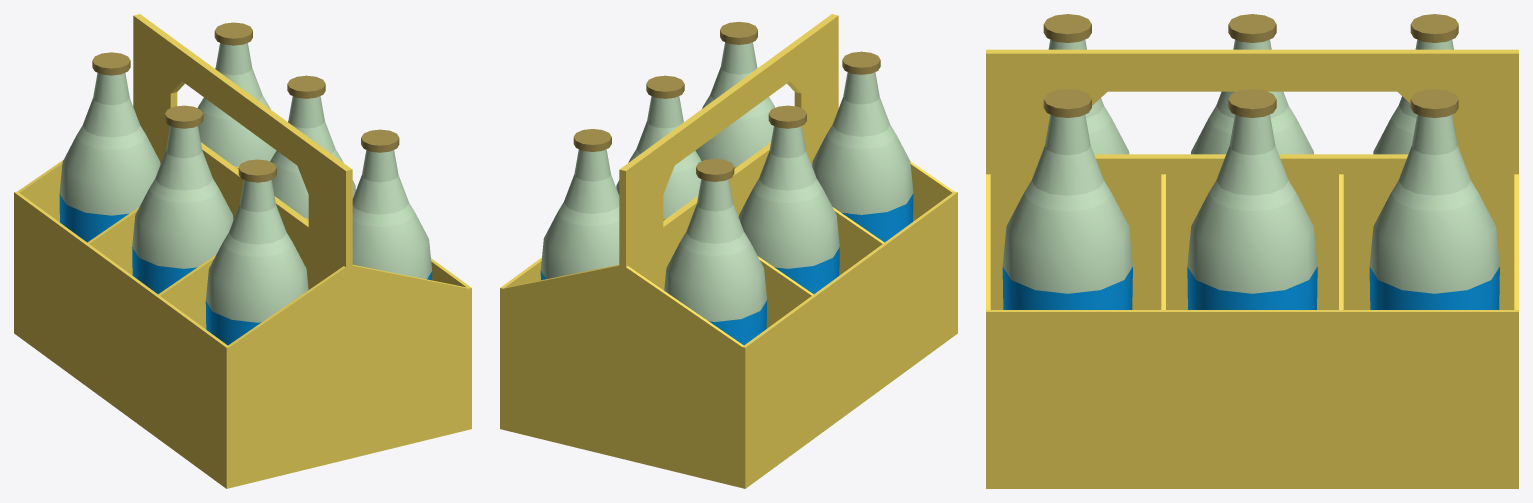
File: Beer - 6 Pack.fbx
3 views of the same model, side by side, from view 1: azimuth 30°, elevation 25°; view 2: azimuth 150°, elevation 25°; view 3: azimuth 270°, elevation 25° (orthographic). The views are drawn at different scales.
Parts seen in each view (by area): view 1: Beer___Holder, Beer___Bottles; view 2: Beer___Holder, Beer___Bottles; view 3: Beer___Holder, Beer___Bottles.
Boxes of the visible parts, box(x1,y1,x2,y2) form: Beer___Holder: box(14, 14, 471, 488); Beer___Bottles: box(59, 22, 432, 345); Beer___Holder: box(500, 14, 957, 488); Beer___Bottles: box(540, 22, 913, 345); Beer___Holder: box(986, 49, 1518, 488); Beer___Bottles: box(1002, 14, 1499, 309).
Size of the model in its own units: 200 by 225 by 300.
